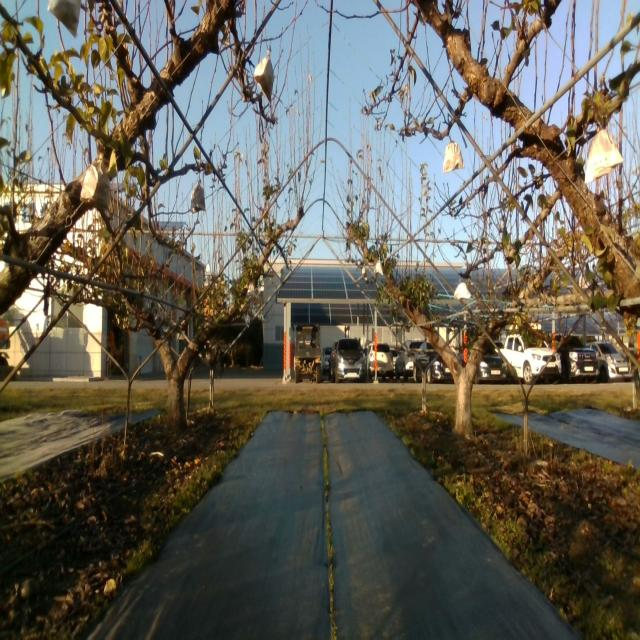pearbags: (584, 127, 623, 182), (80, 153, 110, 210), (254, 45, 274, 101), (443, 136, 464, 172), (189, 178, 206, 215), (454, 278, 471, 300)
